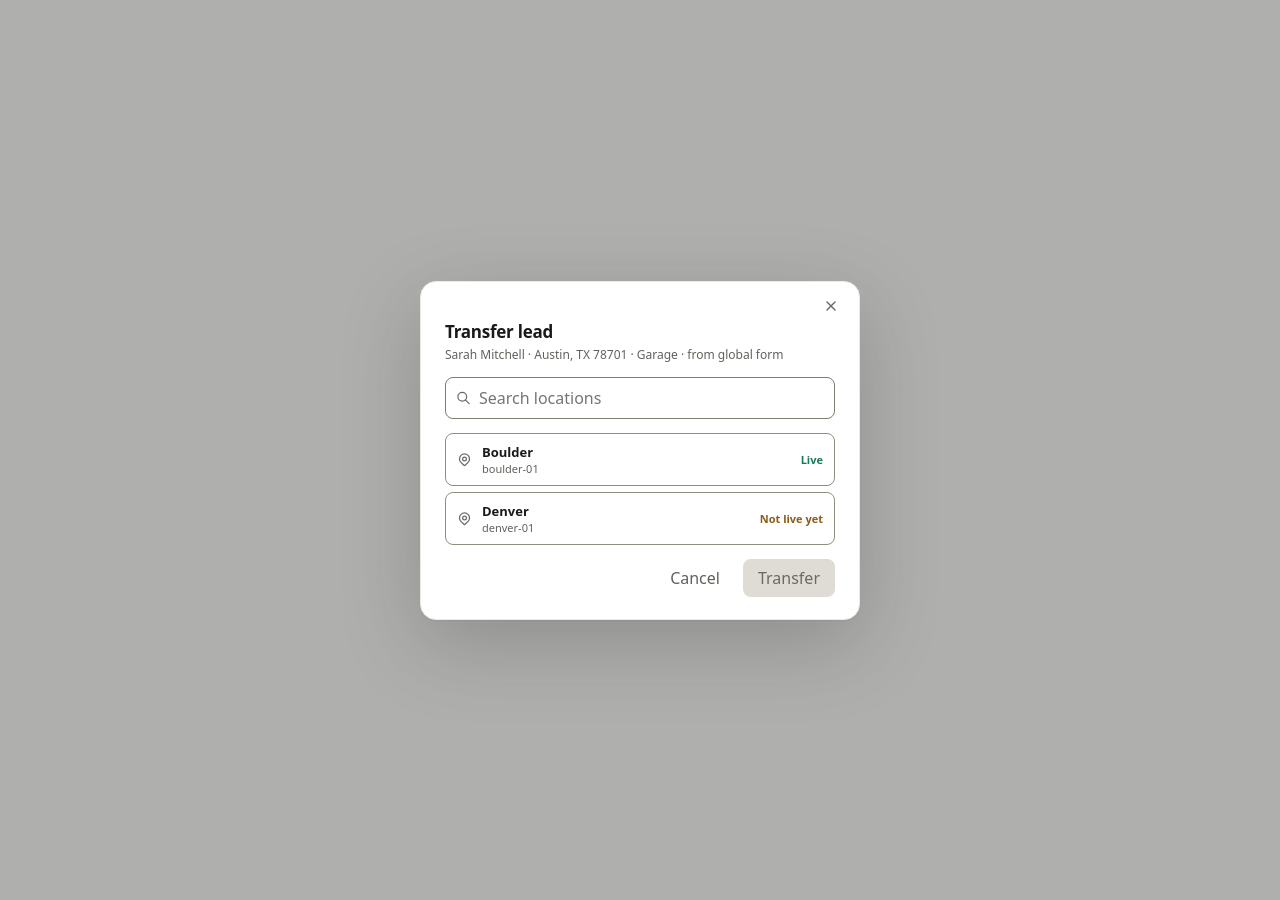
Scenario: TransferLeadModal › error (success:false) shows the banner and does NOT hand up
Click the option "Boulder boulder-01 Live".
click(508, 452)  # box x1=445 y1=432 x2=835 y2=486
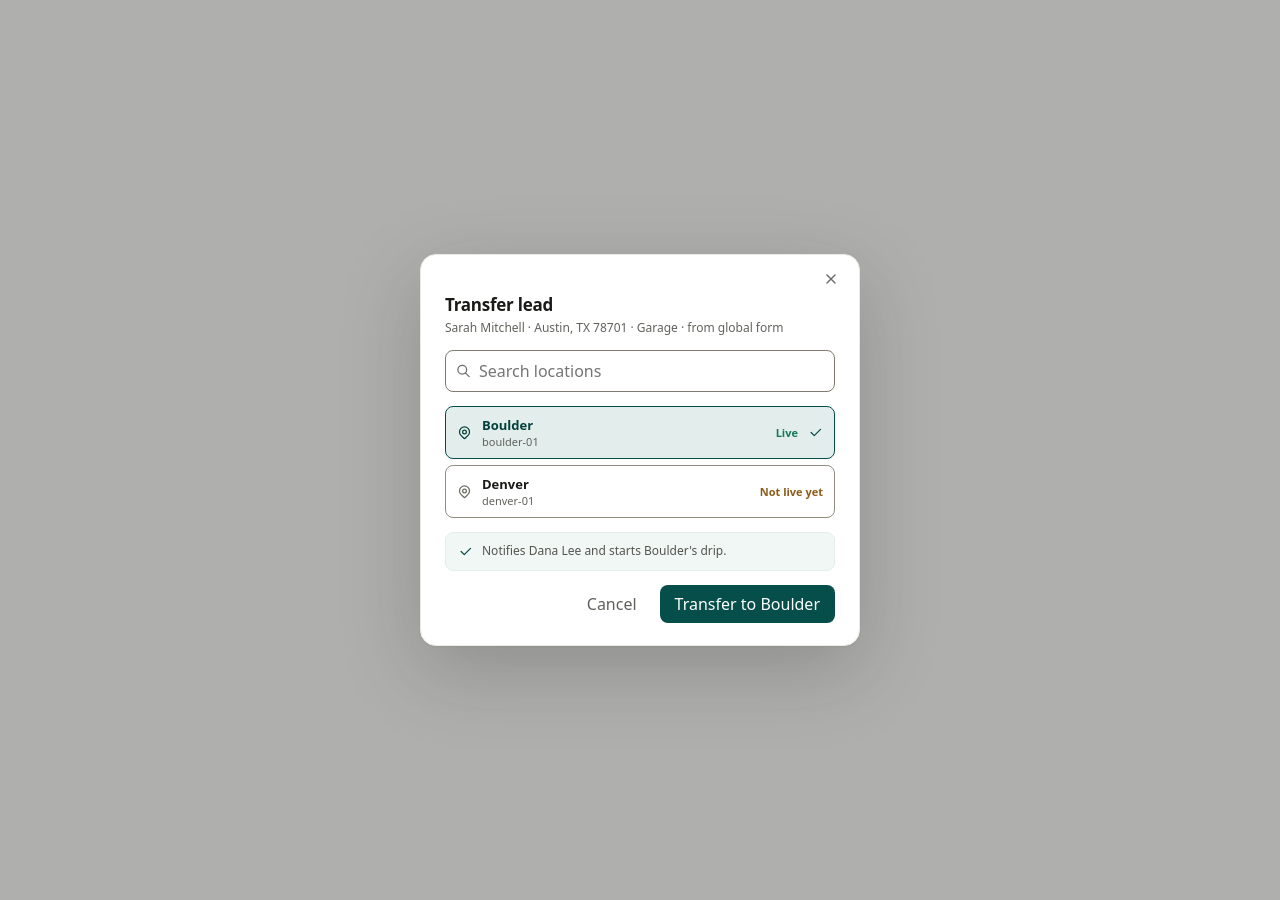
Click the button "Transfer to Boulder".
click(747, 604)  # box x1=660 y1=585 x2=835 y2=623
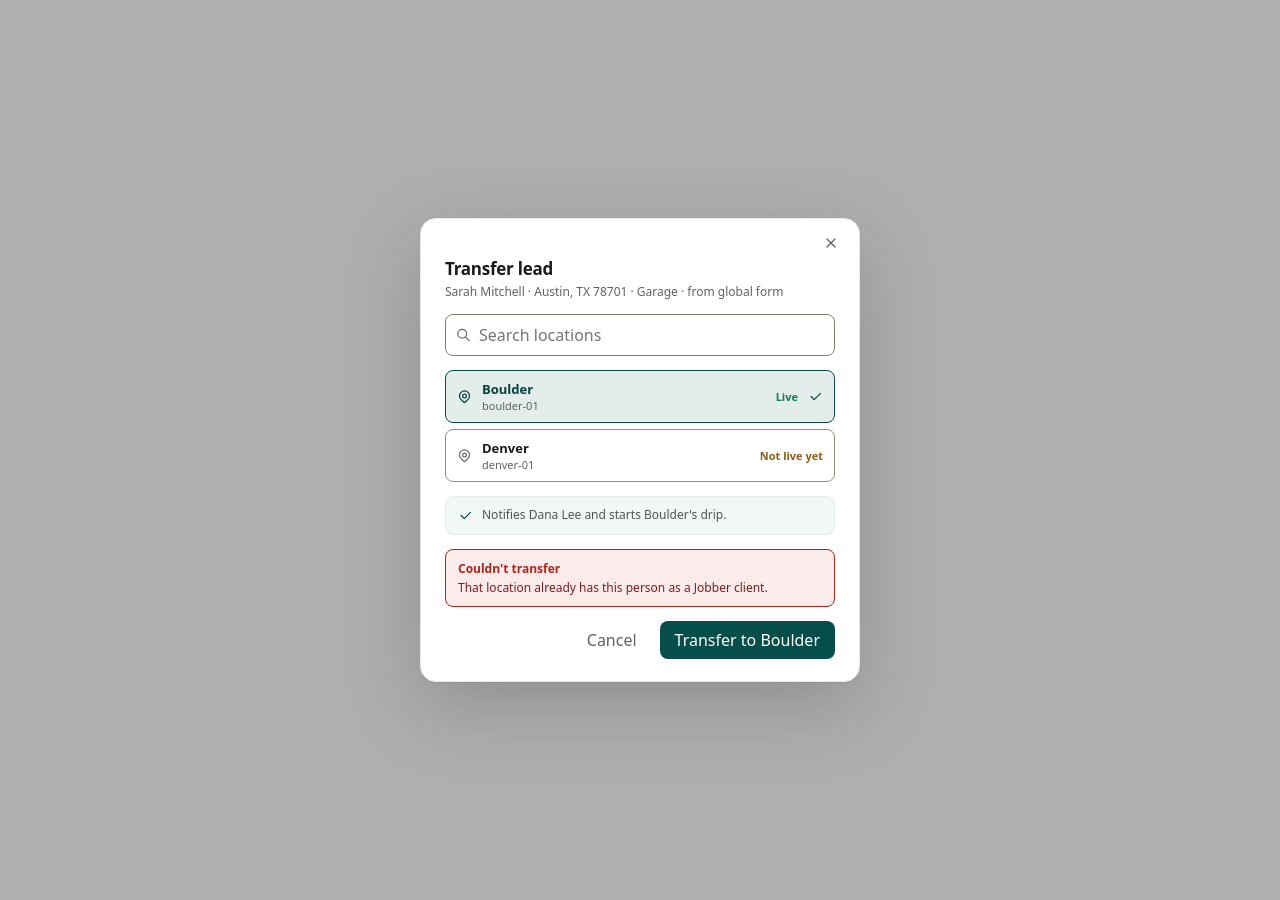
expect the text "Couldn't transfer" is shown: met, box x1=458 y1=560 x2=560 y2=577
expect the text "already has this person as a Jobber client" is shown: met, box x1=458 y1=579 x2=768 y2=596
